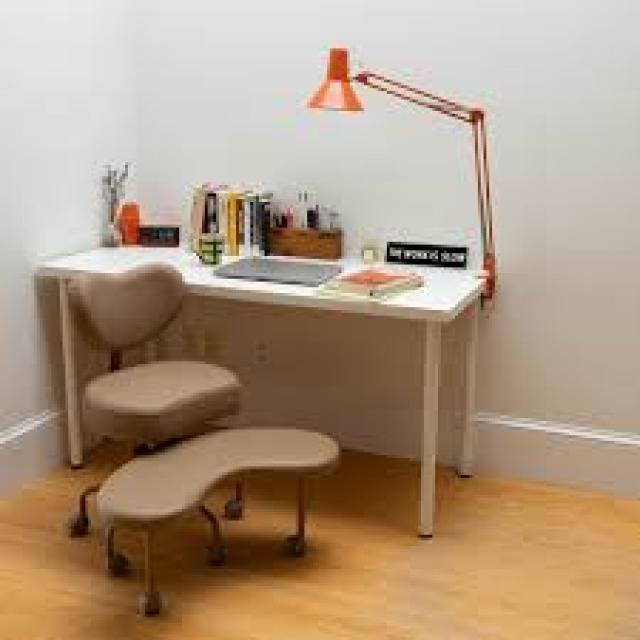chair: (45, 257, 370, 630)
